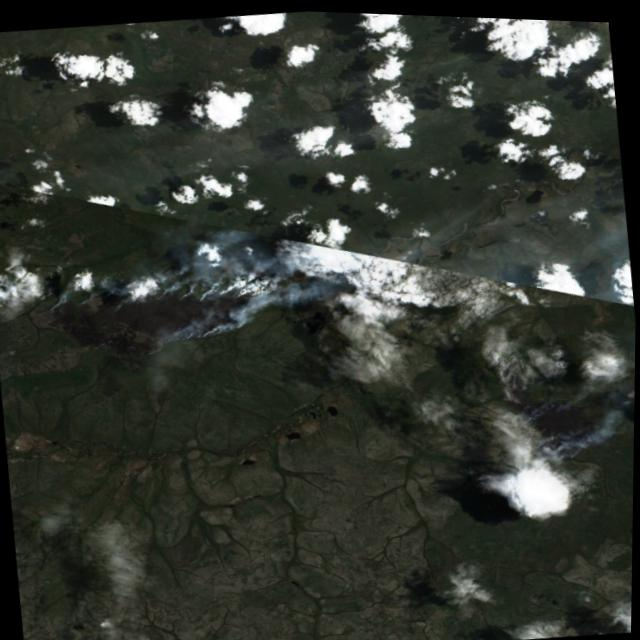fire: (32, 242, 303, 379), (513, 364, 606, 466)
